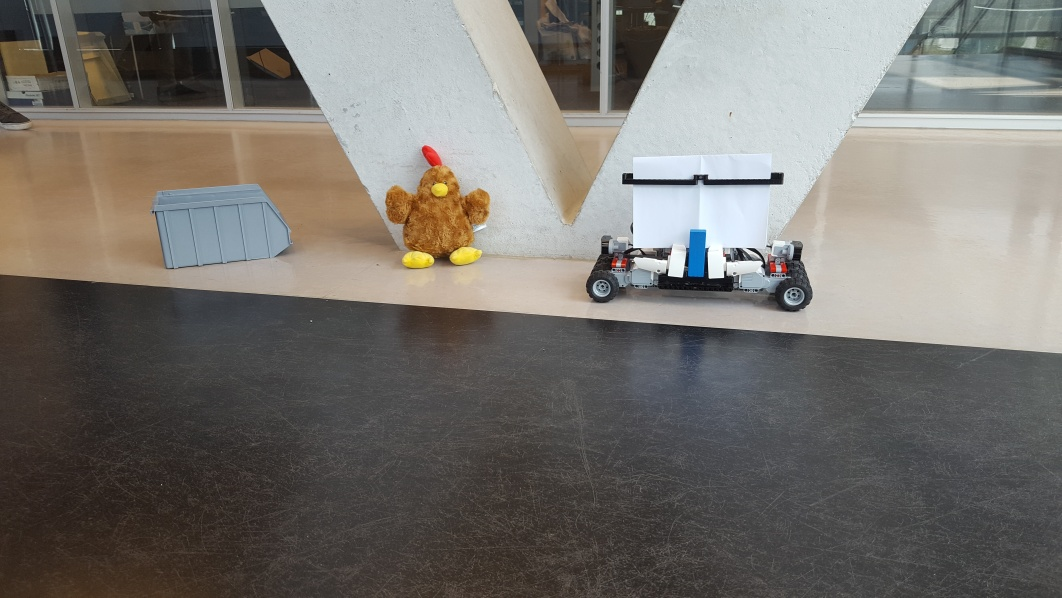beam: (683, 226, 706, 280)
chicken: (386, 144, 490, 266)
tray: (150, 181, 293, 272)
